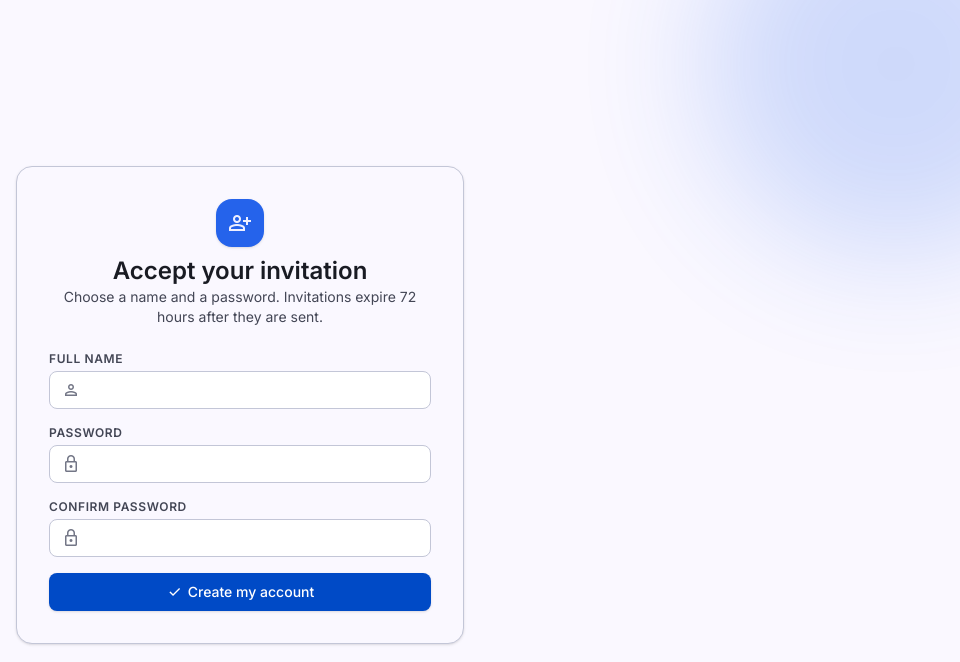
Test case: AcceptInvitePage › sends the token from the URL and never puts it on screen
Step 1. Type "Ana Nguyen" into the field labelled "Full name" → [240, 390], box [49, 371, 431, 409]
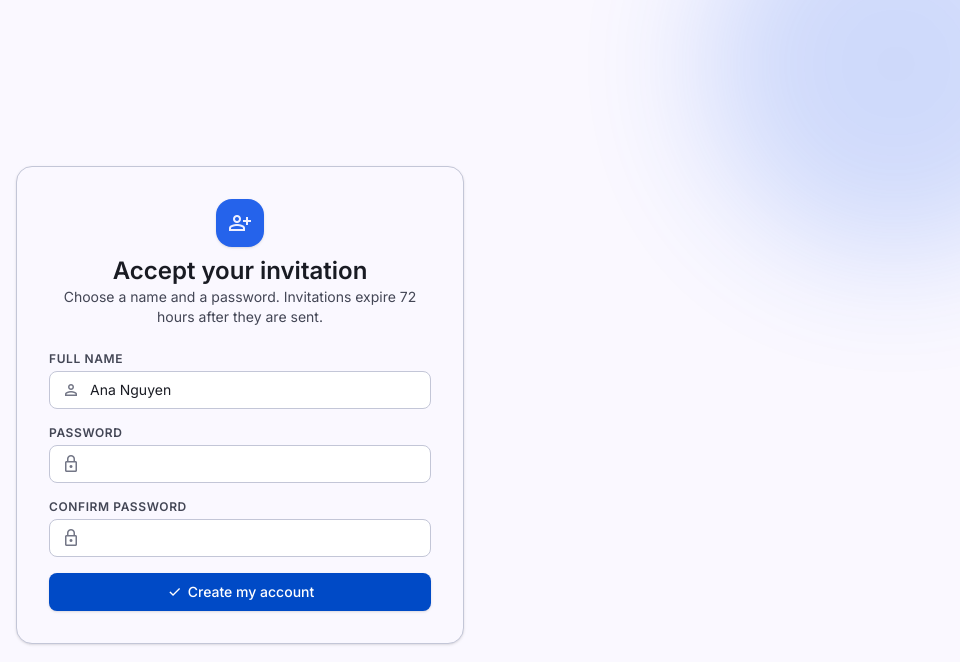
Step 2. Type "Str0ng-Passw0rd!" into the password field labelled "Password" → [240, 464], box [49, 445, 431, 483]
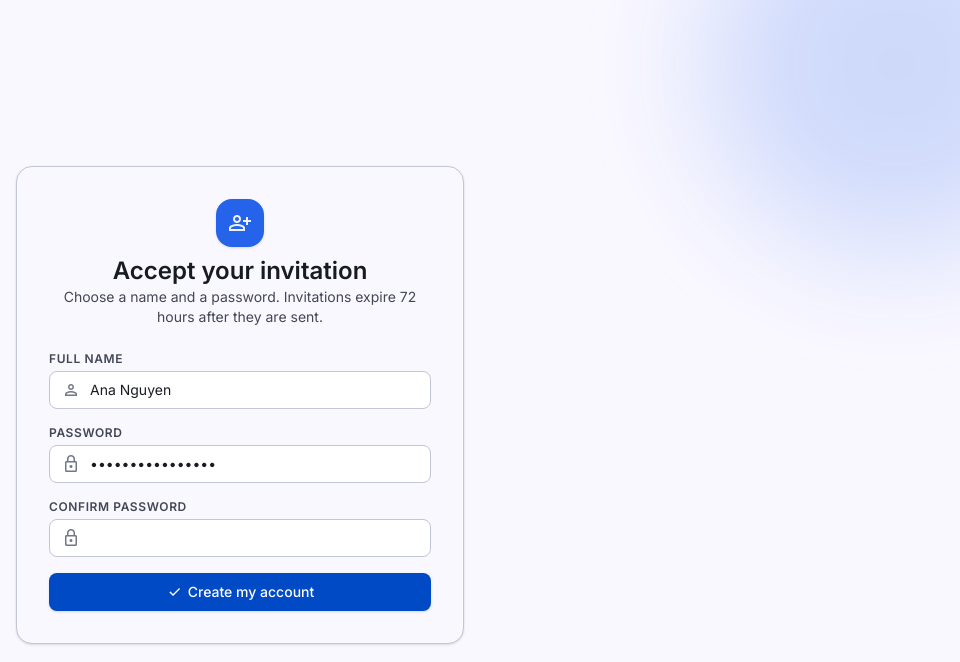
Step 3. Type "Str0ng-Passw0rd!" into the password field labelled "Confirm password" → [240, 538], box [49, 519, 431, 557]
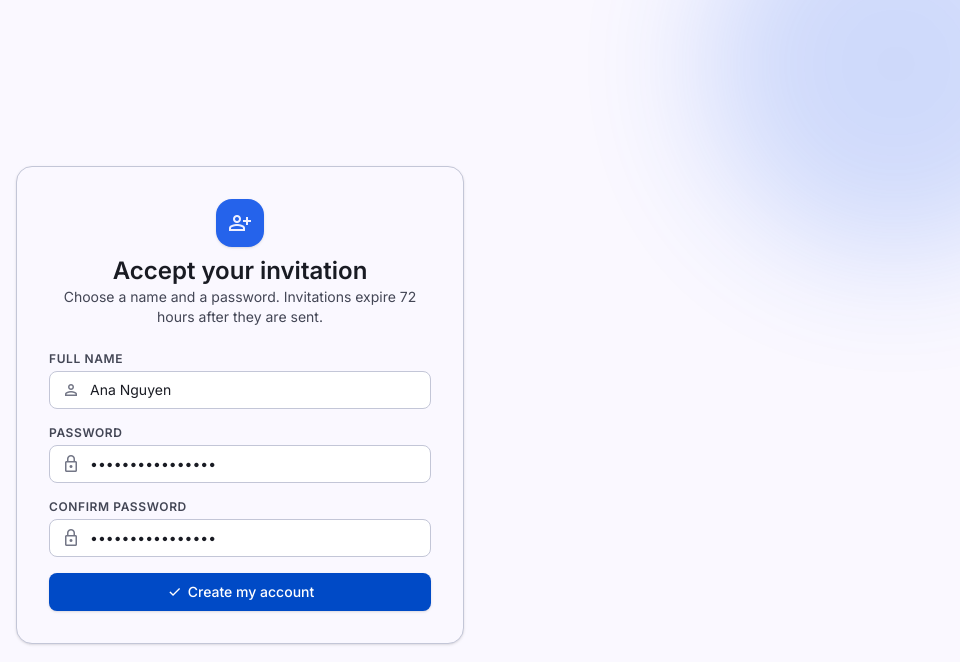
Step 4. Click the button "Create my account" → [240, 592], box [49, 573, 431, 611]
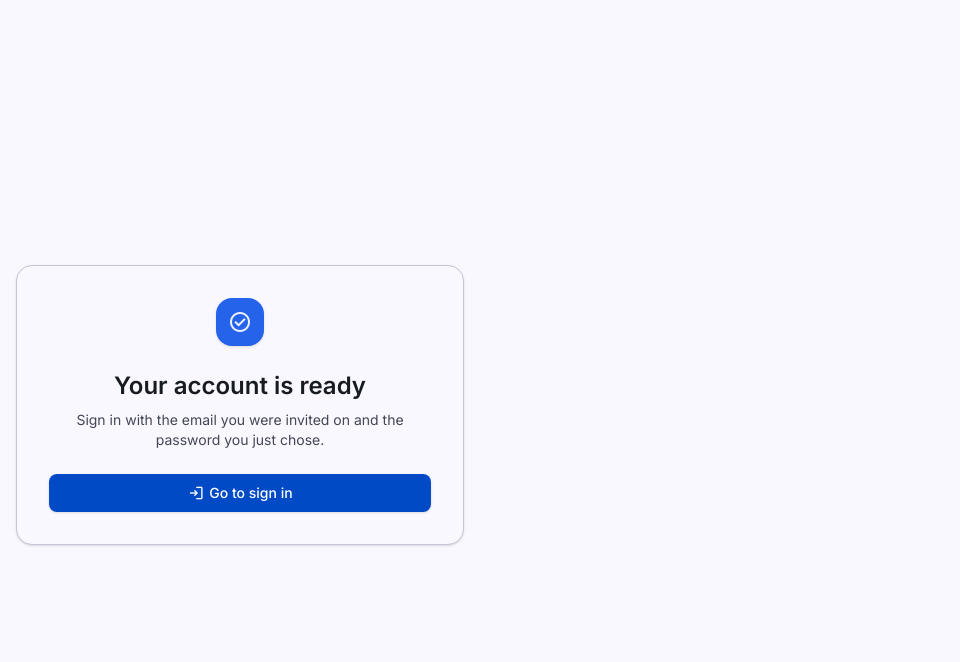
Expected: the heading "Your account is ready" is shown, [114, 371, 366, 400]
